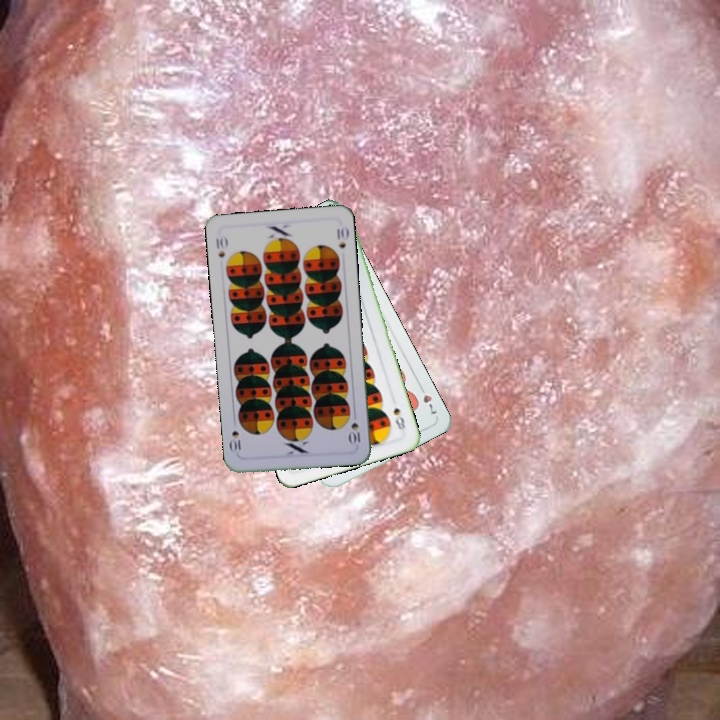H7: (415, 381, 440, 418)
S10: (212, 231, 230, 260), (346, 418, 363, 447)
S8: (389, 403, 409, 437)
